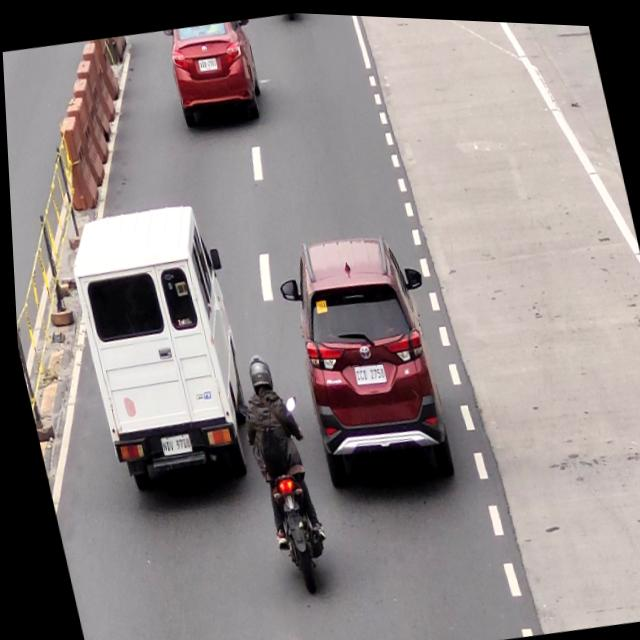Car: (61, 199, 252, 501), (279, 226, 454, 483), (163, 14, 266, 130)
License-Plate: (346, 358, 385, 387), (153, 428, 190, 458), (194, 52, 219, 73)
Motorcycle: (226, 346, 332, 594)
